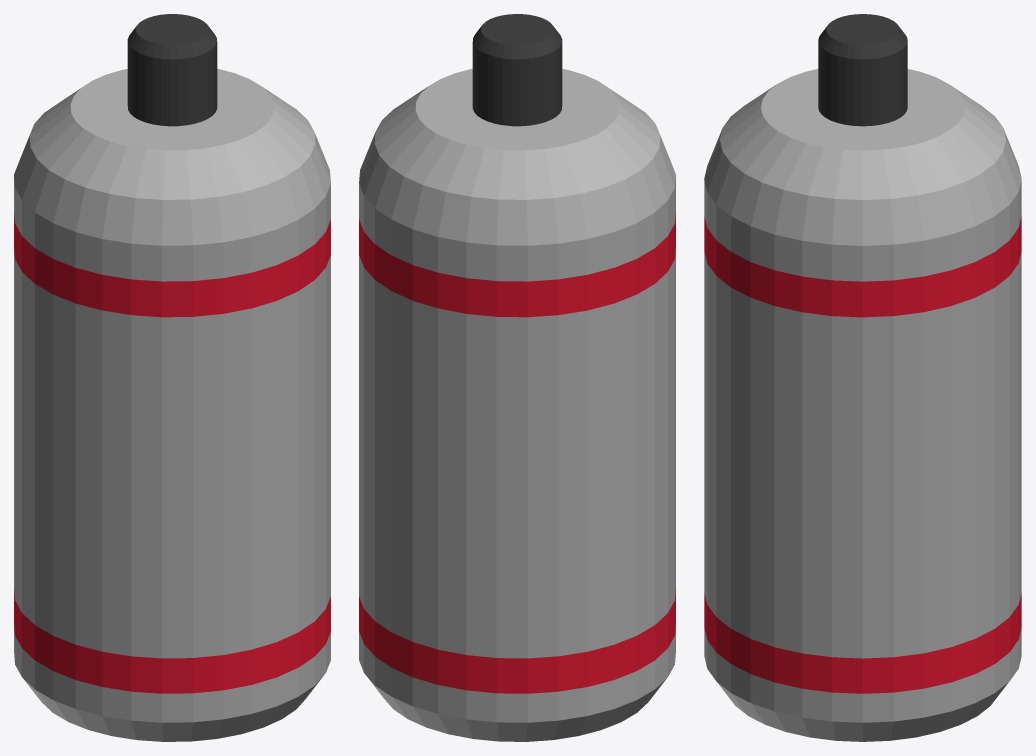
Rendered from bug_spray.glb.
The picture shows the model from 3 angles, left to right: view 1: azimuth 30°, elevation 25°; view 2: azimuth 150°, elevation 25°; view 3: azimuth 270°, elevation 25°; orthographic projection.
Visible parts, largest first — view 1: Cylinder; view 2: Cylinder; view 3: Cylinder.
Part boxes in pixels (x1,y1,x2,y2): Cylinder: [14, 14, 330, 741]; Cylinder: [359, 14, 675, 741]; Cylinder: [704, 14, 1021, 741].
Bounding box in the file's own units: 2.5 × 5.68 × 2.5.
